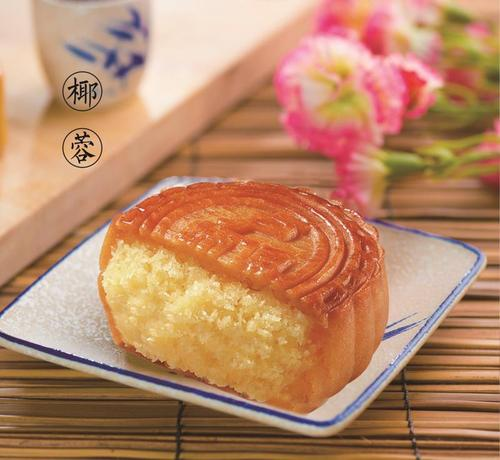MoonCake: (97, 179, 389, 415)
